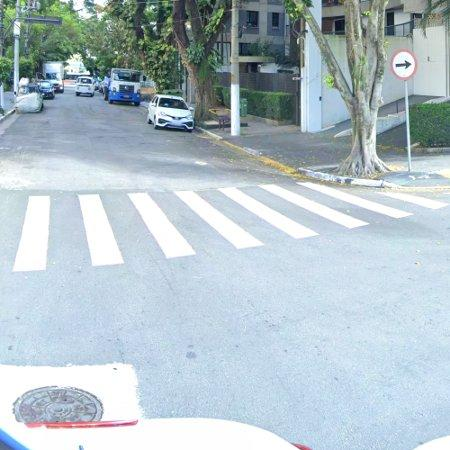crosswalks: (8, 178, 450, 274)
